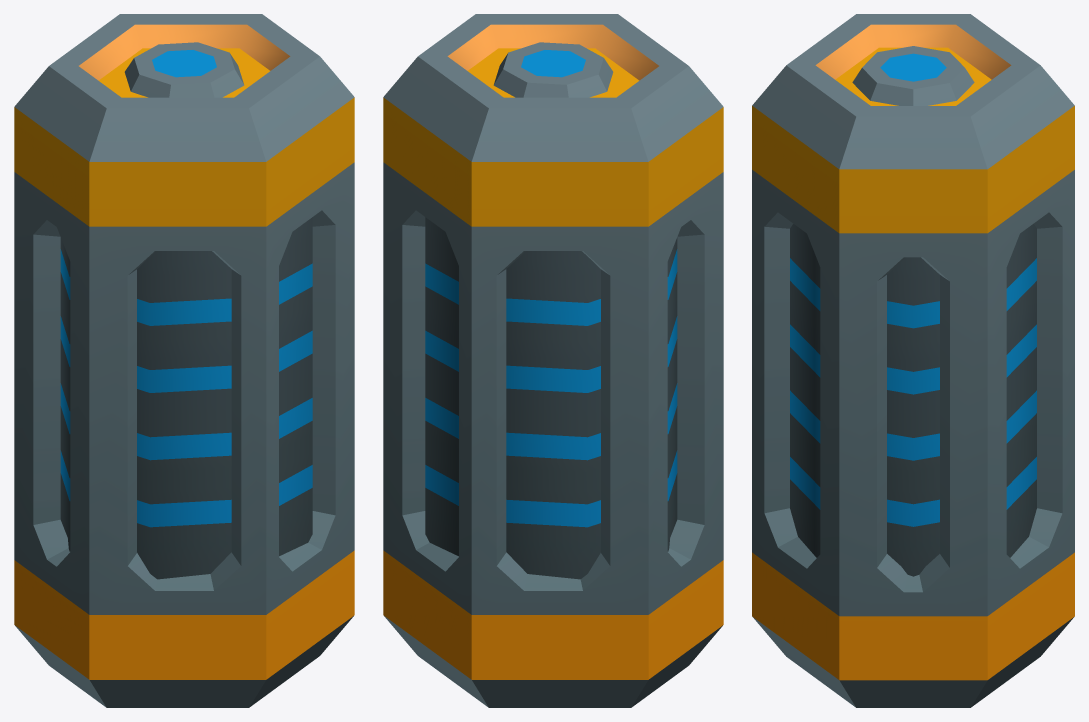
File: Battery_014.fbx
The picture shows the model from 3 angles, left to right: view 1: azimuth 30°, elevation 25°; view 2: azimuth 150°, elevation 25°; view 3: azimuth 270°, elevation 25°; orthographic projection.
Visible parts, largest first — view 1: Battery_014; view 2: Battery_014; view 3: Battery_014.
Part boxes in pixels (x1,y1,x2,y2): Battery_014: (14, 14, 354, 707); Battery_014: (383, 14, 723, 707); Battery_014: (752, 14, 1074, 707).
Bounding box in the file's own units: 36 × 38.47 × 77.75.
